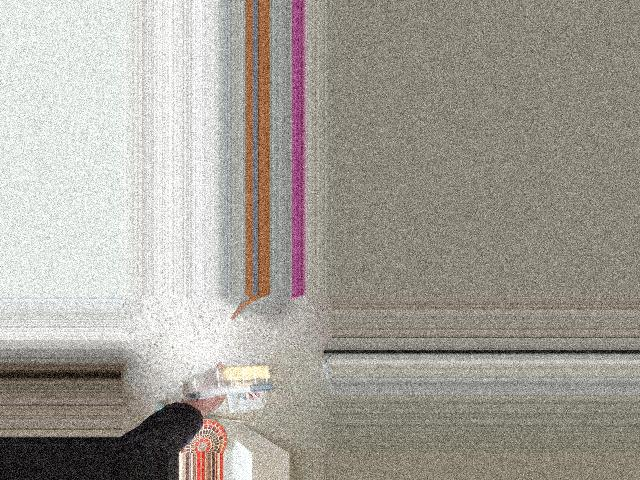cheese: (200, 340, 274, 447)
